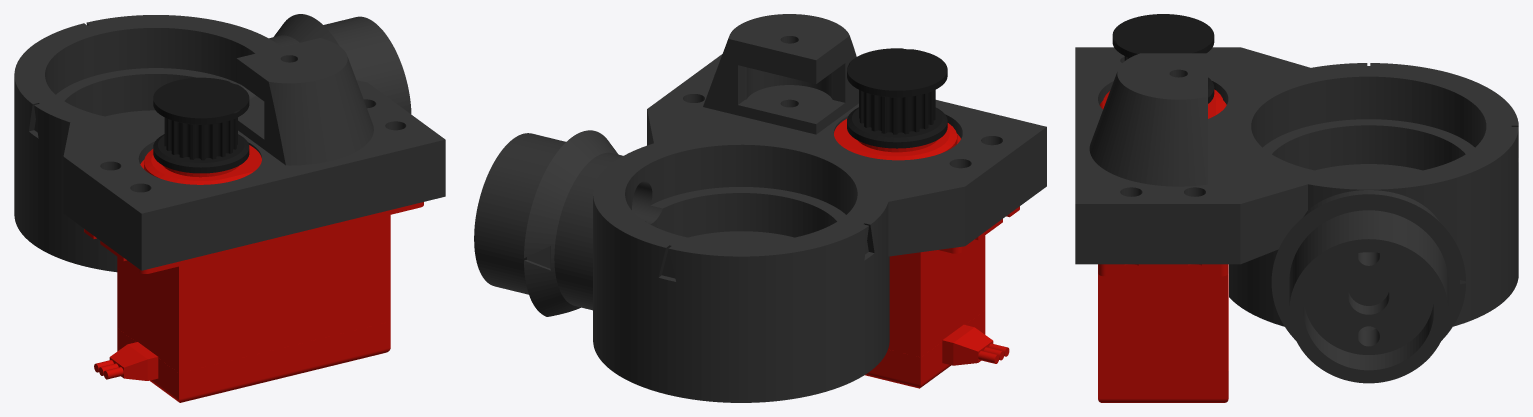
Rendered from hip_bl.obj.
3 renders of one model, left to right at view 1: azimuth 30°, elevation 25°; view 2: azimuth 150°, elevation 25°; view 3: azimuth 270°, elevation 25°, orthographic. The views are drawn at different scales.
Parts seen in each view (by area): view 1: hip_bl_Cylinder.001; view 2: hip_bl_Cylinder.001; view 3: hip_bl_Cylinder.001.
Part boxes in pixels (x1=…): hip_bl_Cylinder.001: x1=14, y1=14, x2=445, y2=402; hip_bl_Cylinder.001: x1=474, y1=14, x2=1046, y2=402; hip_bl_Cylinder.001: x1=1075, y1=14, x2=1518, y2=402.
Bounding box in the file's own units: 0.0713 × 0.0519 × 0.0698.
